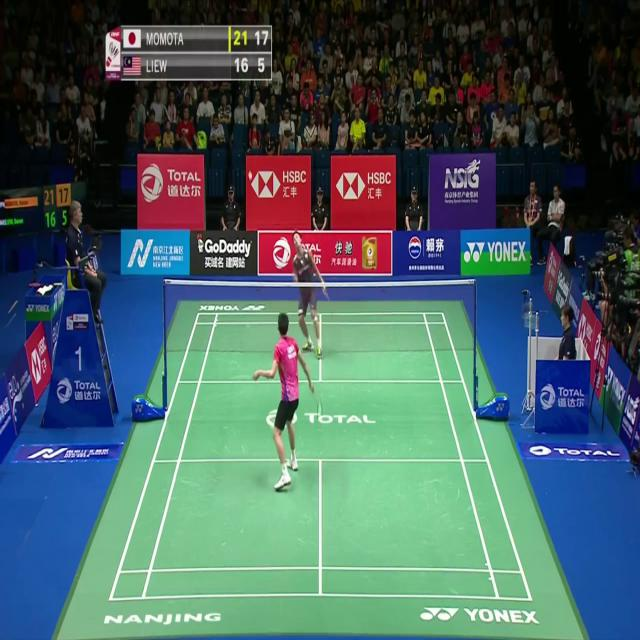Shuttlecock: (247, 170, 253, 182)
